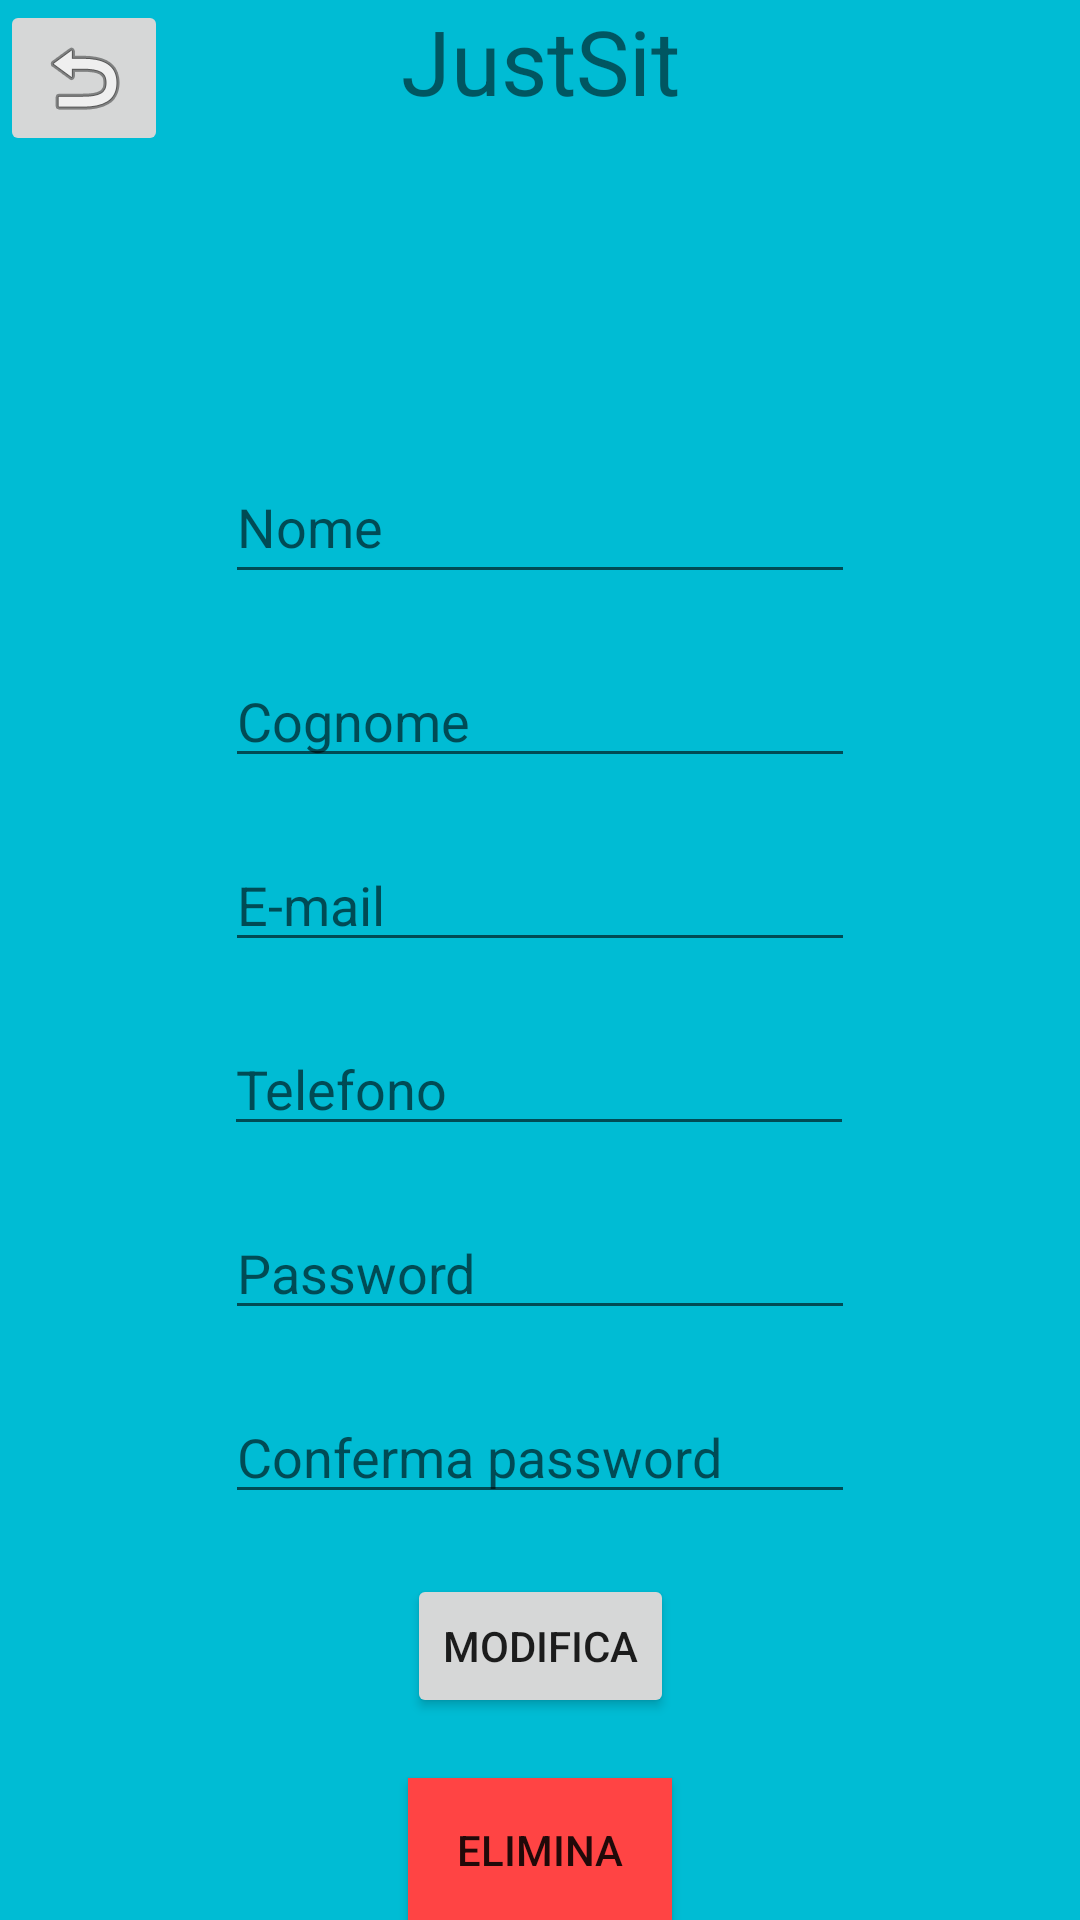

Icons on this 1080×1920 Android screen, each with its box as {"left": x1, "top": y1, "right": x2, "bottom": y2}:
revert: {"left": 12, "top": 18, "right": 156, "bottom": 138}
